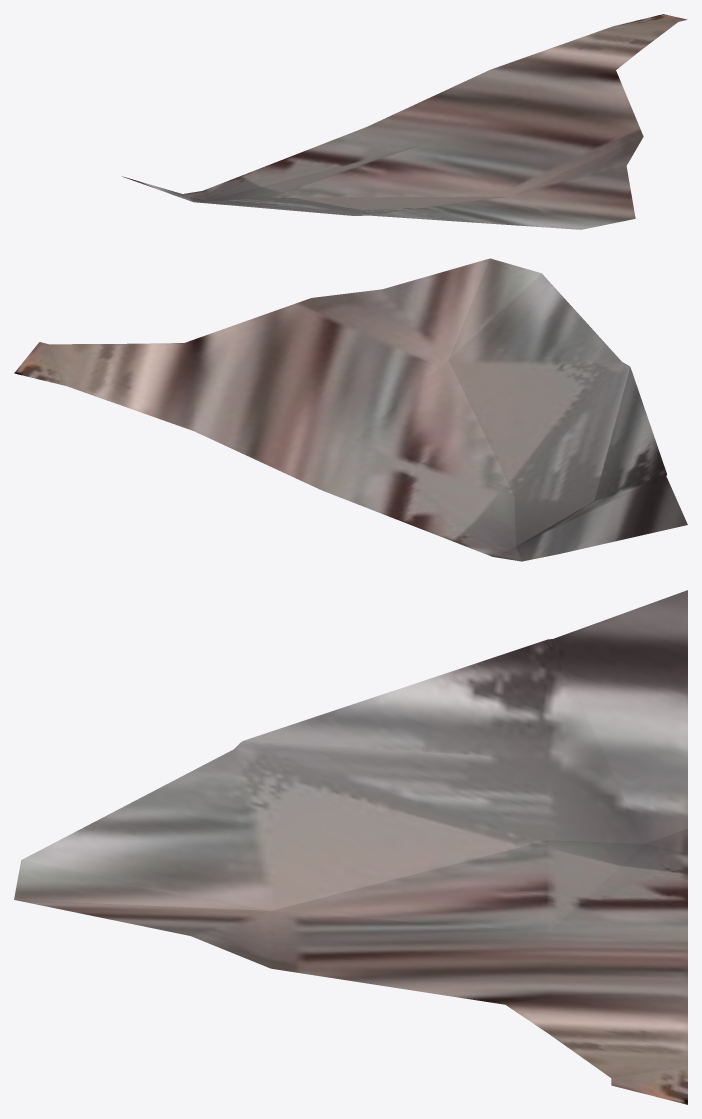
The picture shows the model from 3 angles, top to bottom: view 1: azimuth 30°, elevation 25°; view 2: azimuth 150°, elevation 25°; view 3: azimuth 270°, elevation 25°; orthographic projection. The views are drawn at different scales.
Size of the model in its own units: 1.27 by 0.1436 by 0.7315.
Materials: 1 (1 with a texture image).
